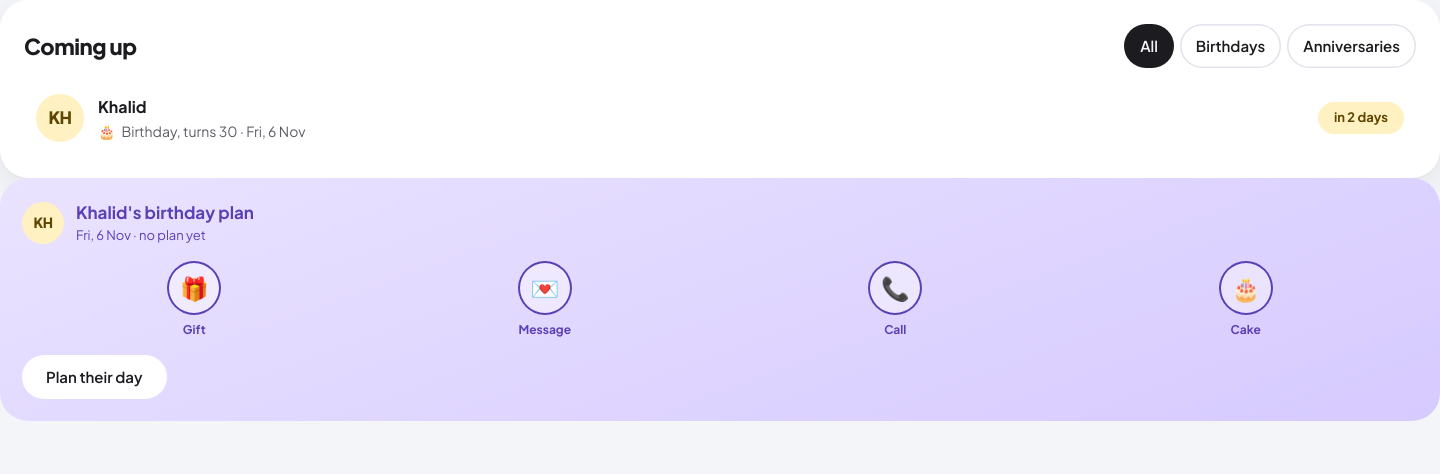
Test: birthday plans on Home › the plan card: ticking a suggestion starts the plan, and the dots follow
The width and height of the screenshot is (1440, 474).
Expected: the heading "Khalid's birthday plan" is shown, [76,200,254,226]
Click the button named "Gift".
click(194, 288)  # box [167,261,221,315]
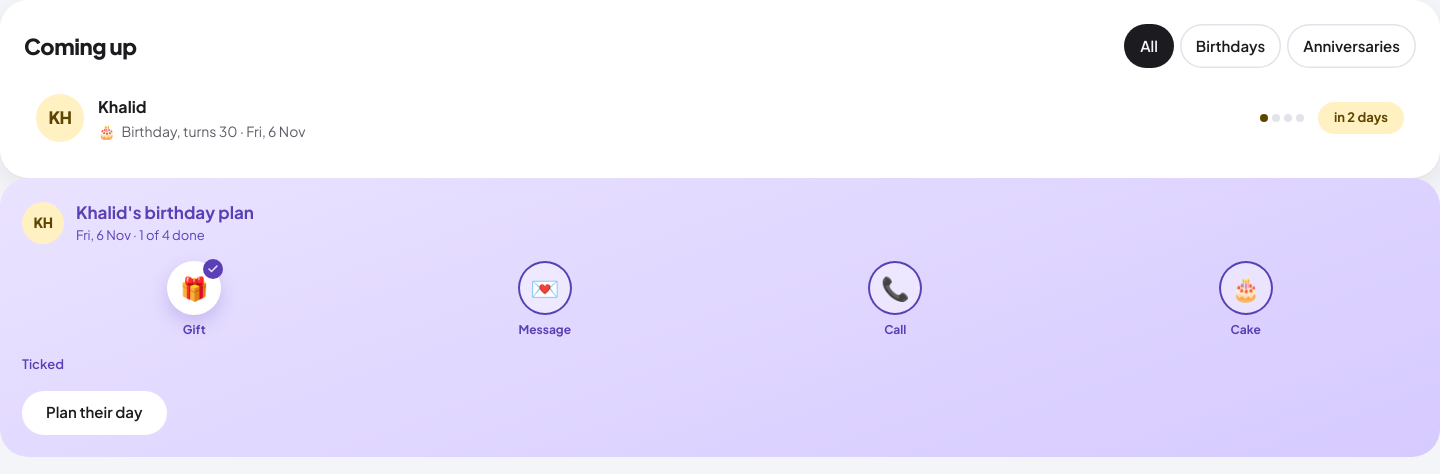
Expected: the button "Plan their day" is shown, [22,390,166,434]
Expected: the picture named "Plan 1 of 4 done" is shown, [1260,114,1304,122]
